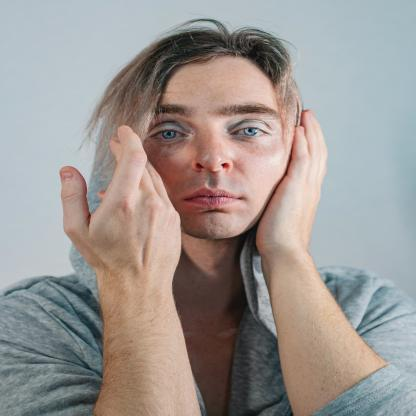Eye: (226, 118, 274, 142), (146, 124, 190, 145)
Mouth: (182, 186, 248, 208)
Nose: (188, 134, 236, 173)
